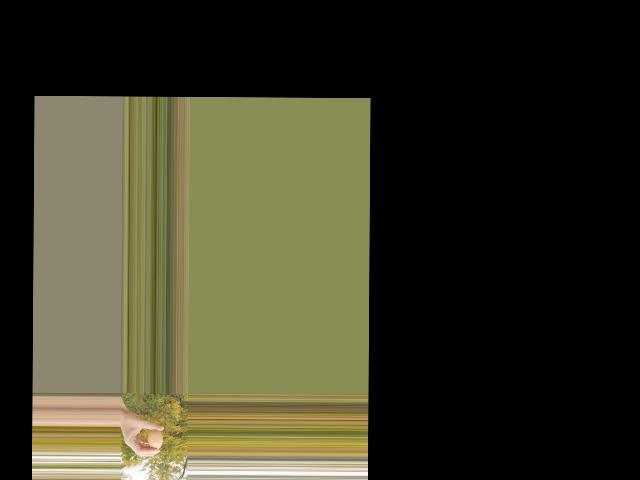egg: (147, 429, 163, 449)
